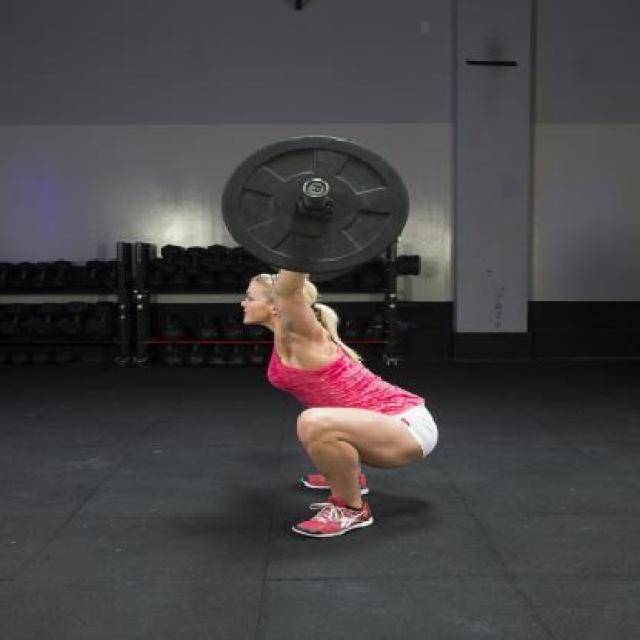barbell: (217, 131, 416, 280)
